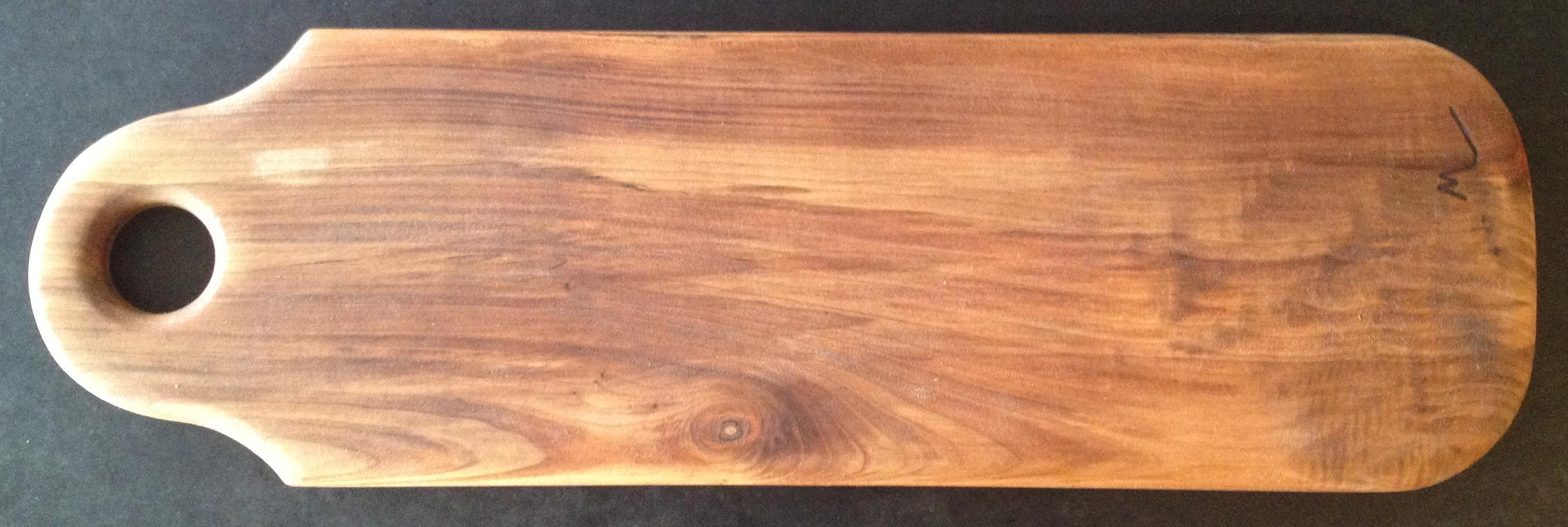gloved_hand: (11, 16, 1556, 508)
